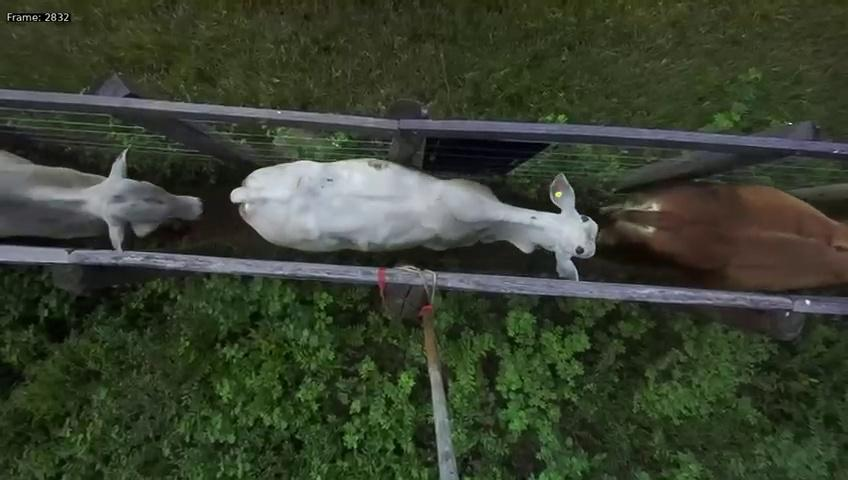cattle: (225, 130, 595, 279)
